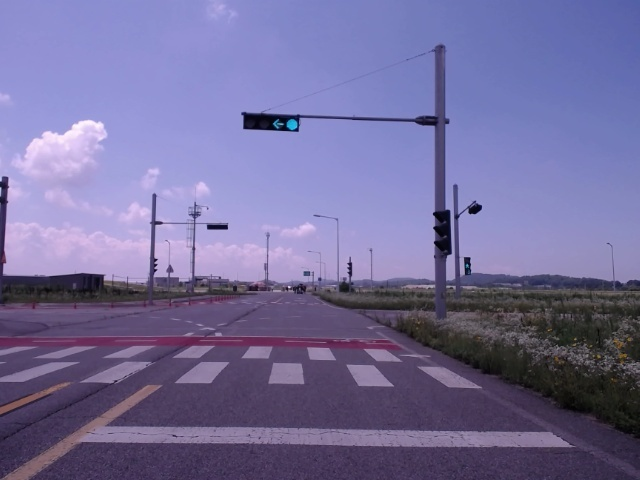all_green_4: (240, 113, 301, 132)
